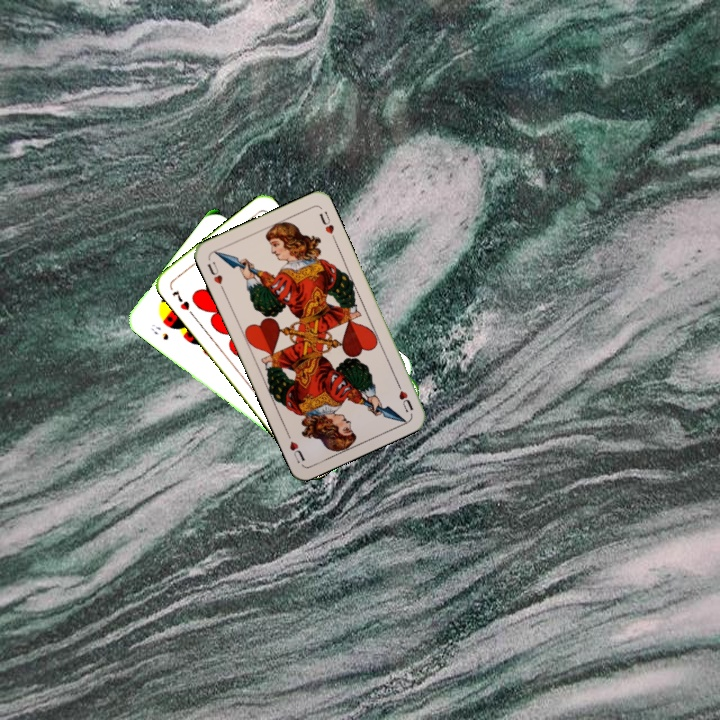H7: (168, 286, 192, 313)
HU: (392, 377, 416, 415), (203, 257, 227, 294)
S8: (147, 320, 171, 343)
